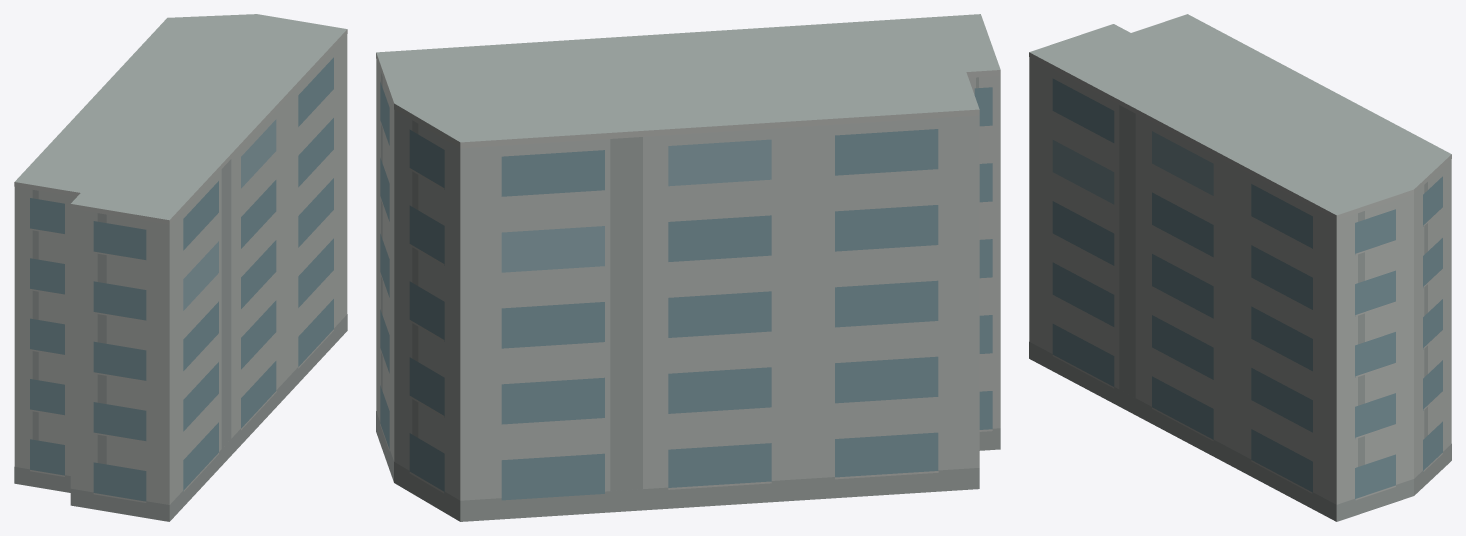
File: residential-a57d6106-5fce-45a8-9cc8-f2bb3beee8f8.glb
The picture shows the model from 3 angles, left to right: view 1: azimuth 30°, elevation 25°; view 2: azimuth 150°, elevation 25°; view 3: azimuth 270°, elevation 25°; orthographic projection. The views are drawn at different scales.
Parts seen in each view (by area): view 1: residential-a57d6106-5fce-45a8-9cc8-f2bb3beee8f8.tmp; view 2: residential-a57d6106-5fce-45a8-9cc8-f2bb3beee8f8.tmp; view 3: residential-a57d6106-5fce-45a8-9cc8-f2bb3beee8f8.tmp.
Part boxes in pixels (box(x1,y1,x2,y2)): residential-a57d6106-5fce-45a8-9cc8-f2bb3beee8f8.tmp: box(14, 14, 347, 521); residential-a57d6106-5fce-45a8-9cc8-f2bb3beee8f8.tmp: box(376, 14, 1000, 521); residential-a57d6106-5fce-45a8-9cc8-f2bb3beee8f8.tmp: box(1029, 14, 1451, 521).
Bounding box in the file's own units: 21.5 × 15.25 × 19.07.
